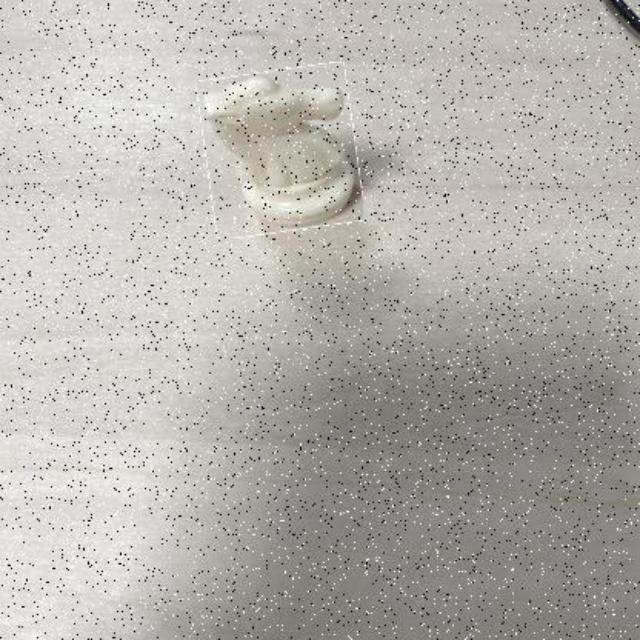white-knight: (202, 67, 360, 235)
